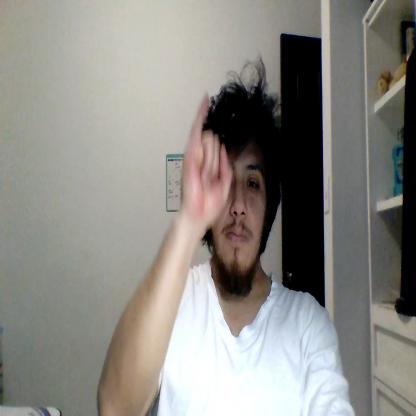I: (180, 90, 233, 226)
